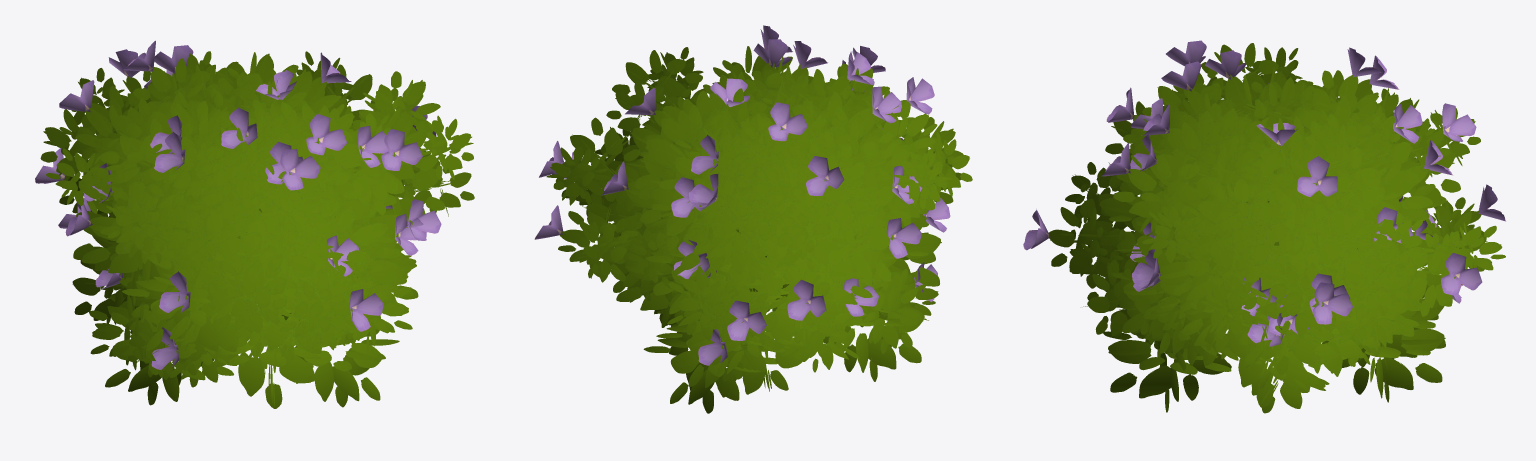
File: bush-flowers.glb
The picture shows the model from 3 angles, left to right: view 1: azimuth 30°, elevation 25°; view 2: azimuth 150°, elevation 25°; view 3: azimuth 270°, elevation 25°; orthographic projection. The views are drawn at different scales.
Visible parts, largest first — view 1: Bush_Common_Flowers; view 2: Bush_Common_Flowers; view 3: Bush_Common_Flowers.
Part boxes in pixels (x1,y1,x2,y2): Bush_Common_Flowers: (35, 40, 474, 408); Bush_Common_Flowers: (534, 25, 972, 413); Bush_Common_Flowers: (1023, 40, 1505, 413).
Size of the model in its own units: 1.91 by 1.58 by 1.97.
2 materials, 2 textured.
